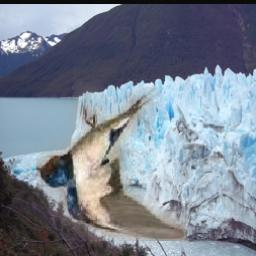Swallow: (36, 70, 186, 241)
